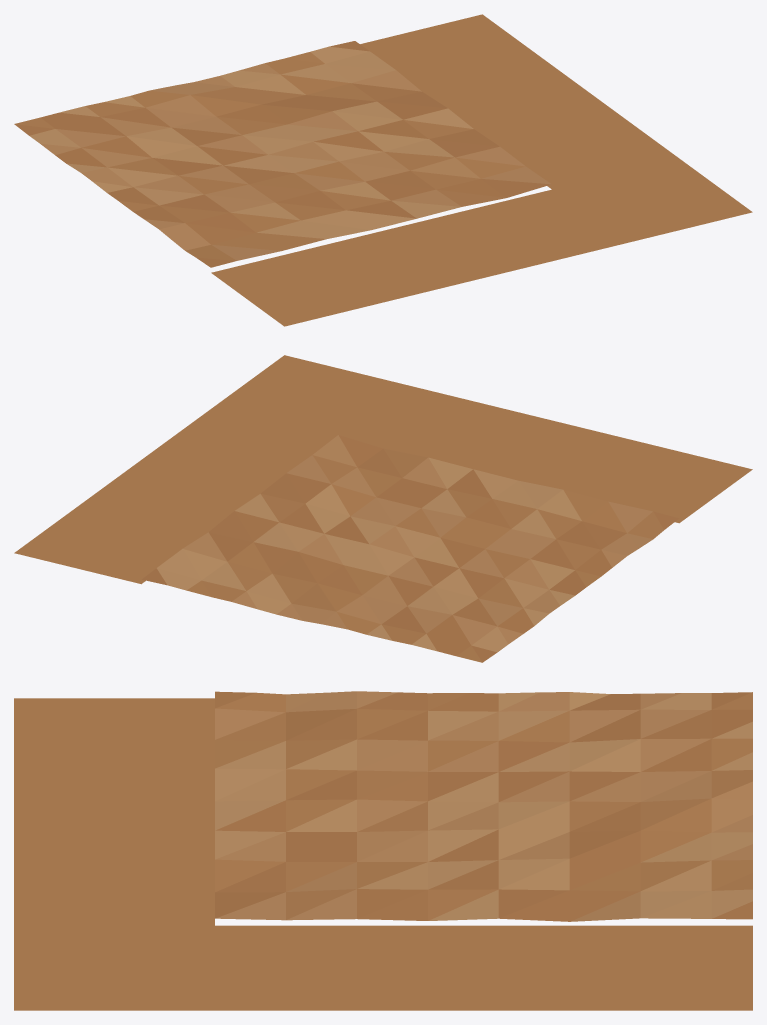
3 views of the same model, one above another, from view 1: azimuth 30°, elevation 25°; view 2: azimuth 150°, elevation 25°; view 3: azimuth 270°, elevation 25° (orthographic). The views are drawn at different scales.
Visible parts, largest first — view 1: baked; view 2: baked; view 3: baked.
Part boxes in pixels (x1,y1,x2,y2): baked: (14, 14, 752, 326); baked: (14, 355, 752, 662); baked: (14, 691, 752, 1010).
Bounding box in the file's own units: 125 × 1.39 × 125.
